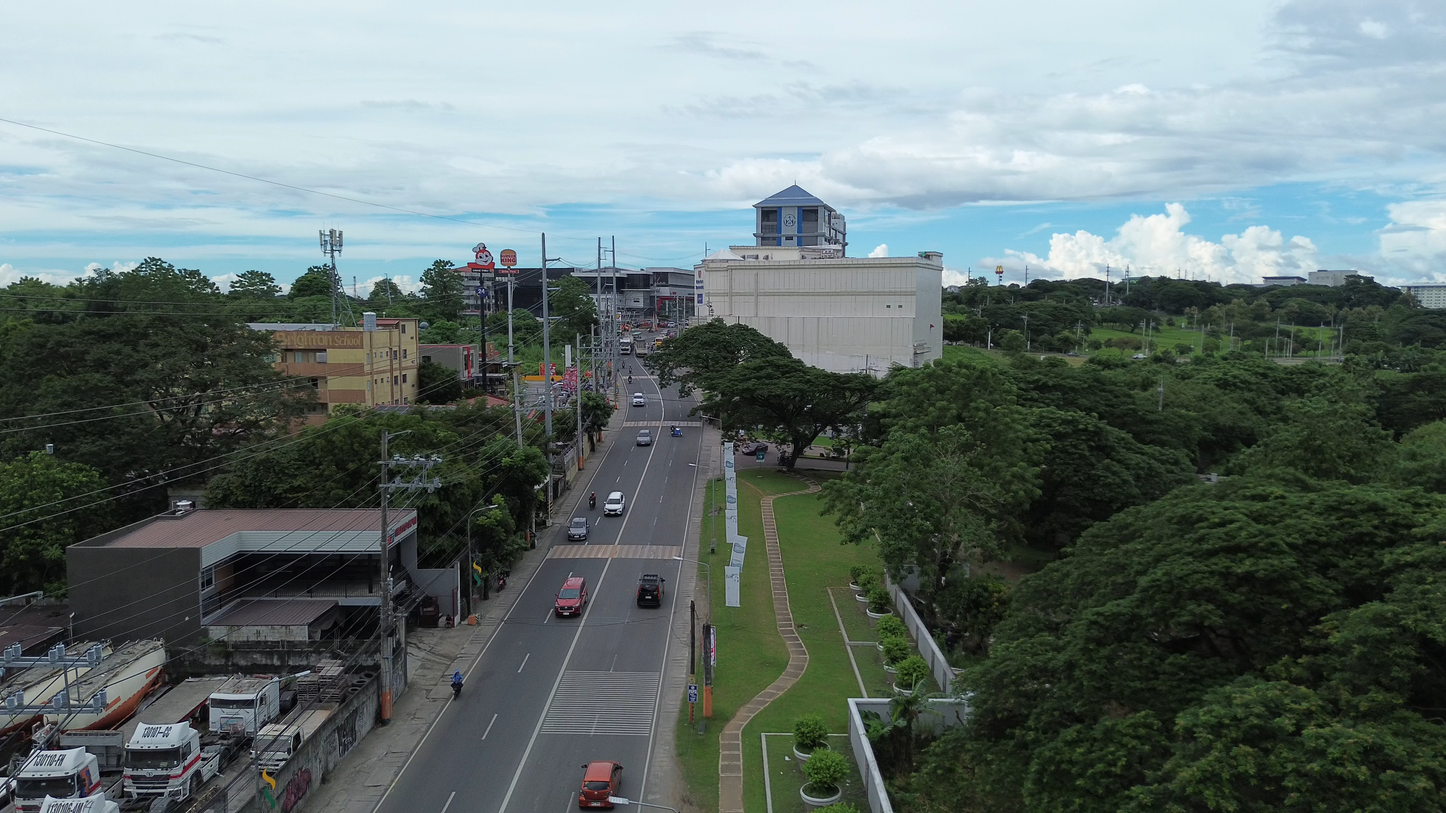car: (555, 576, 587, 616), (603, 491, 625, 516), (567, 517, 589, 540), (631, 392, 646, 406), (1131, 353, 1147, 360)
truck: (209, 676, 280, 735)
vehicle: (124, 722, 222, 801), (14, 748, 102, 813), (253, 723, 305, 773), (578, 761, 623, 808), (39, 793, 119, 813), (636, 574, 665, 606), (738, 442, 768, 455), (636, 429, 653, 446), (619, 336, 633, 355), (671, 426, 682, 437)
